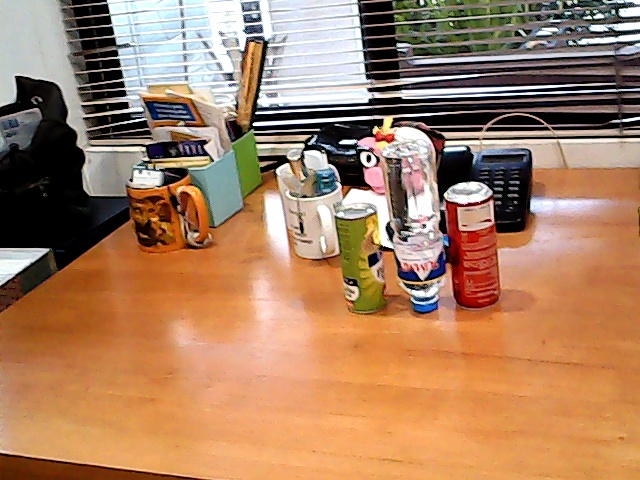Cola: (444, 177, 506, 313)
Pine Juice: (325, 198, 386, 328)
Summit Water: (381, 127, 445, 324)
